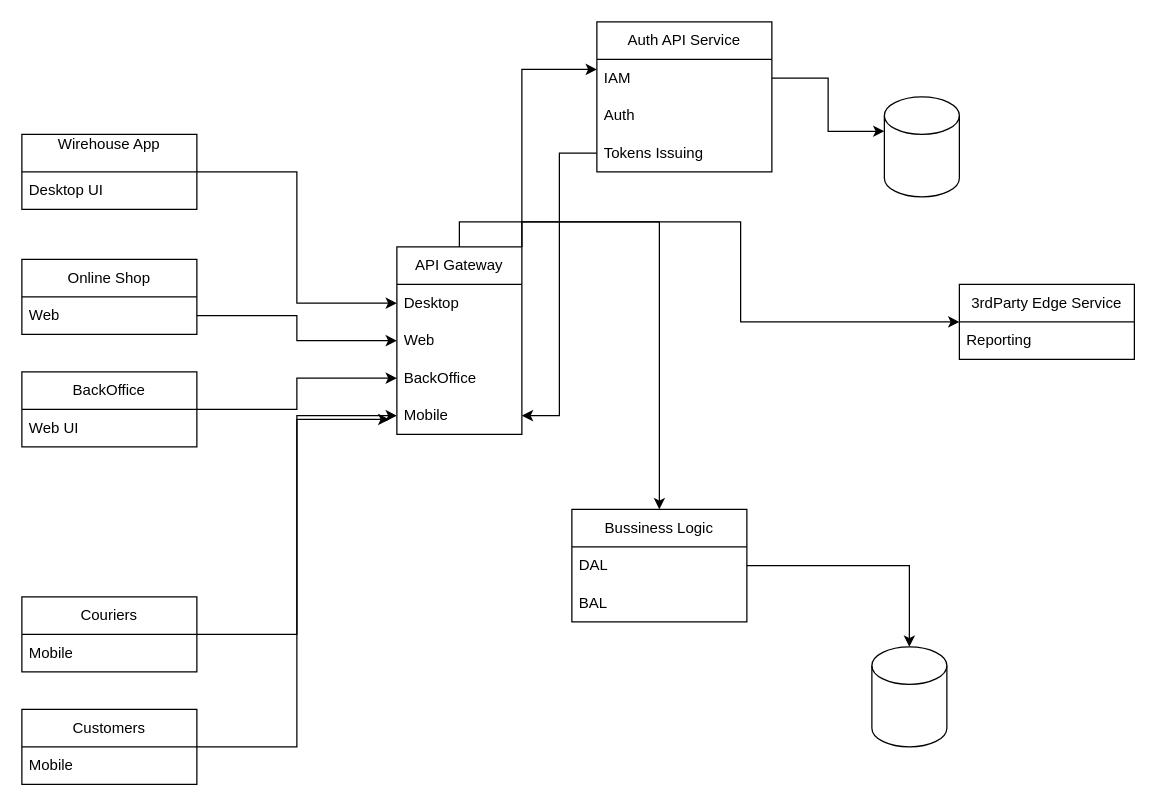
This 1156x806 diagram has some shape labels left out. Each missing label, with the centre of its shape:
IAM Storage: the point at 921,146
SQL DB: the point at 909,696
